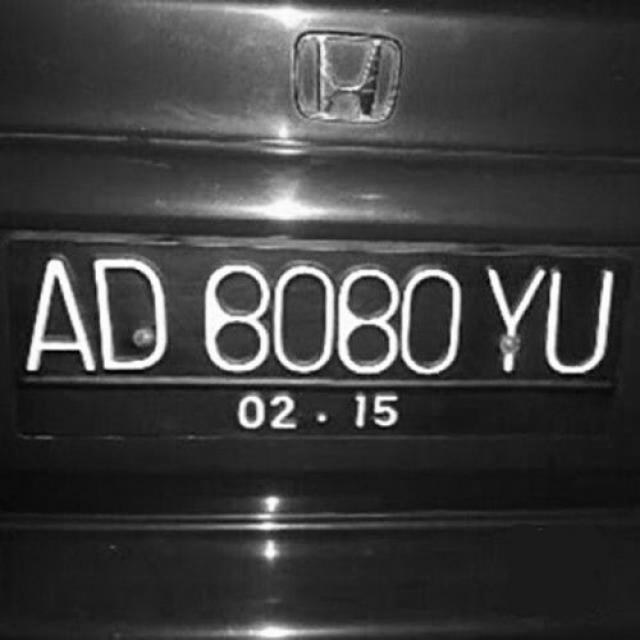0: (396, 258, 466, 381), (270, 255, 334, 380)
8: (203, 263, 273, 388), (338, 270, 396, 380)
A: (20, 255, 98, 374)
D: (89, 251, 173, 375)
U: (540, 268, 612, 386)
Y: (486, 260, 542, 384)
